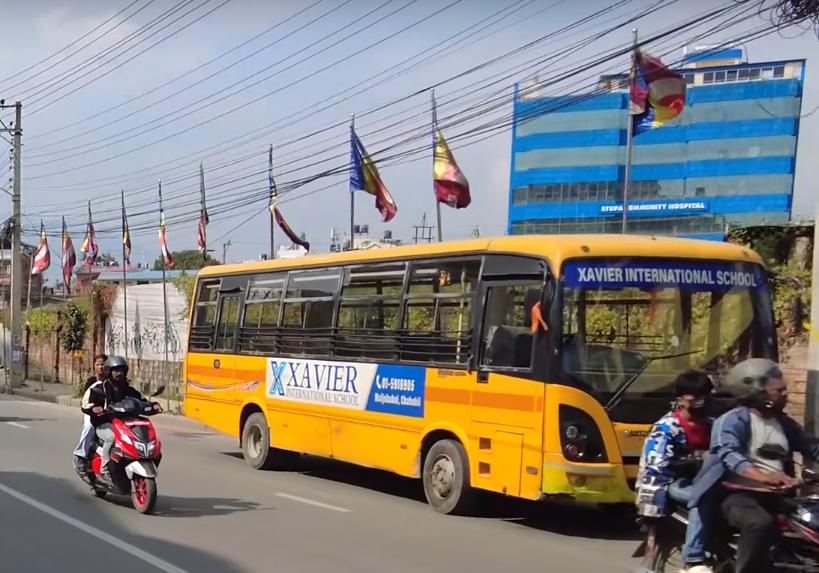school_bus: (183, 220, 788, 520)
scooter: (73, 388, 169, 518)
